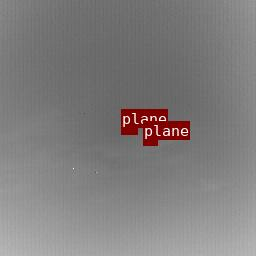plane: (121, 128, 137, 134), (143, 140, 157, 145)
